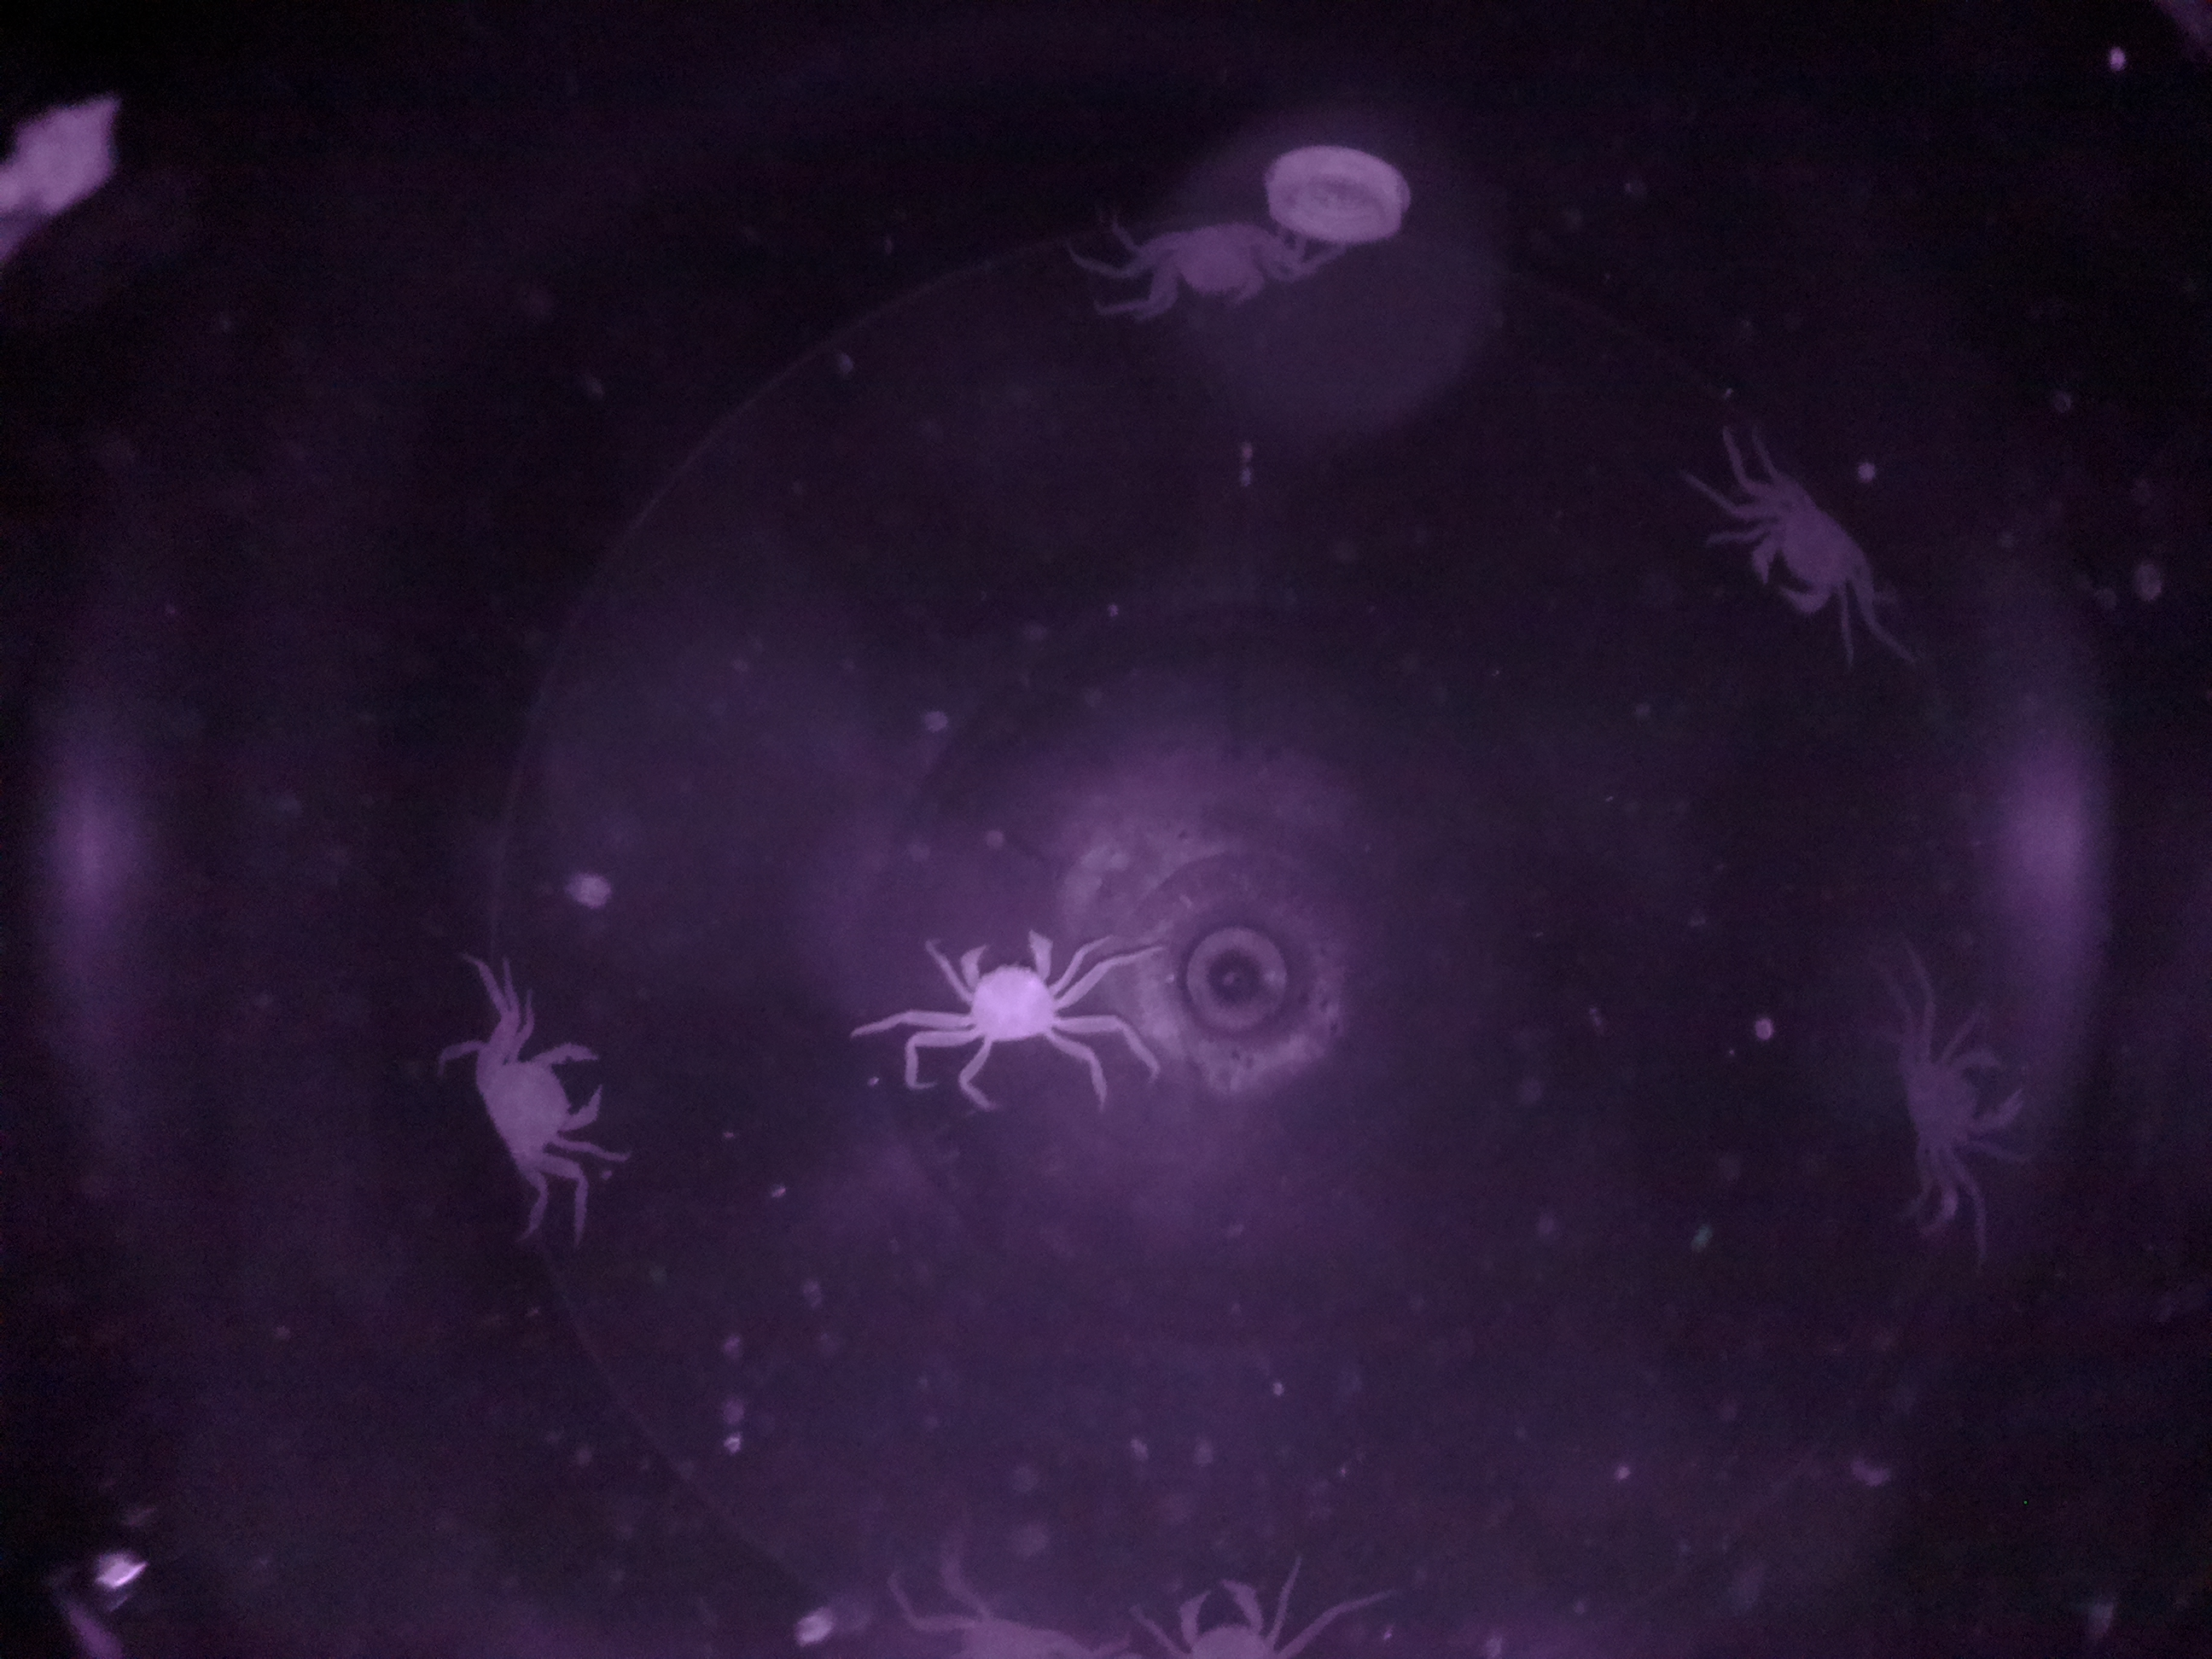Crab: (1712, 462, 1902, 636), (432, 1011, 625, 1171), (1881, 1009, 2043, 1197), (920, 913, 1090, 1089)
